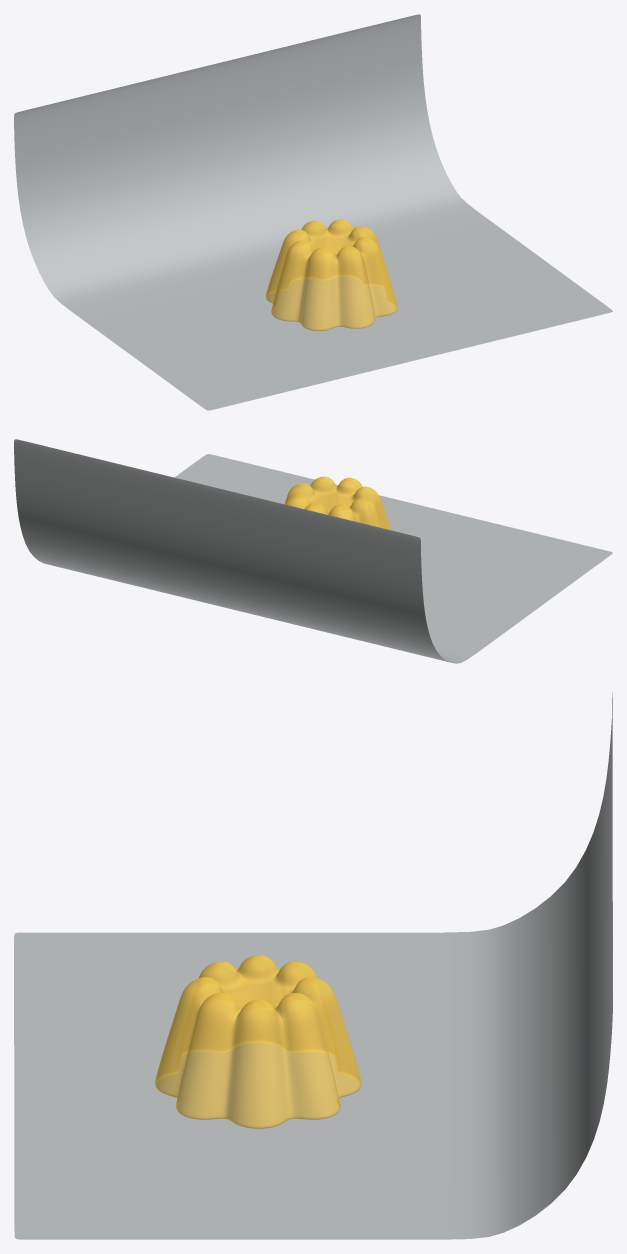
Rendered from Jellopudding.fbx.
3 views of the same model, one above another, from view 1: azimuth 30°, elevation 25°; view 2: azimuth 150°, elevation 25°; view 3: azimuth 270°, elevation 25° (orthographic). The views are drawn at different scales.
Parts seen in each view (by area): view 1: Plane.000, Circle; view 2: Plane.000, Circle; view 3: Plane.000, Circle.
Boxes of the visible parts, x1,y1,x2,y2 form: Plane.000: (14,14,612,410); Circle: (265,219,397,331); Plane.000: (14,439,612,663); Circle: (284,476,391,530); Plane.000: (14,692,612,1239); Circle: (155,955,361,1128).
Bounding box in the file's own units: 1174 × 433 × 968.
